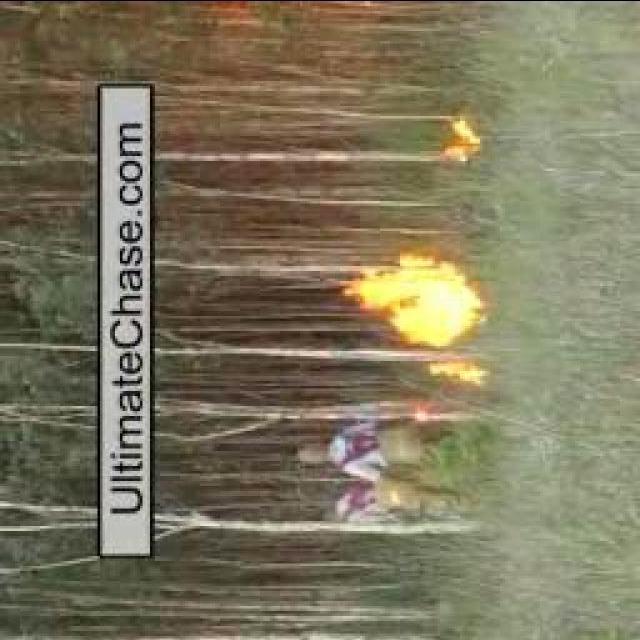Fire: (356, 251, 482, 346), (445, 120, 483, 160), (434, 358, 484, 384)
